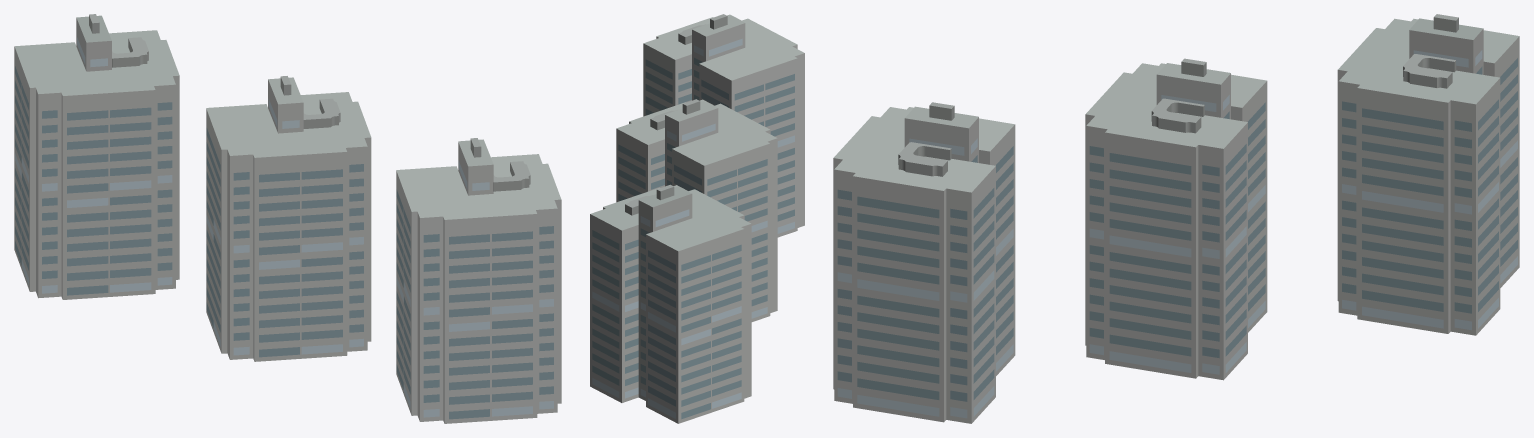
Rendered from apt-a13704101.glb.
3 views of the same model, side by side, from view 1: azimuth 30°, elevation 25°; view 2: azimuth 150°, elevation 25°; view 3: azimuth 270°, elevation 25° (orthographic). The views are drawn at different scales.
Visible parts, largest first — view 1: apt-a13704101; view 2: apt-a13704101; view 3: apt-a13704101.
Boxes of the visible parts, x1=… form: apt-a13704101: x1=14, y1=14, x2=561, y2=423; apt-a13704101: x1=590, y1=14, x2=804, y2=423; apt-a13704101: x1=833, y1=14, x2=1519, y2=423.
Size of the model in its own units: 68.83 by 50.99 by 115.
